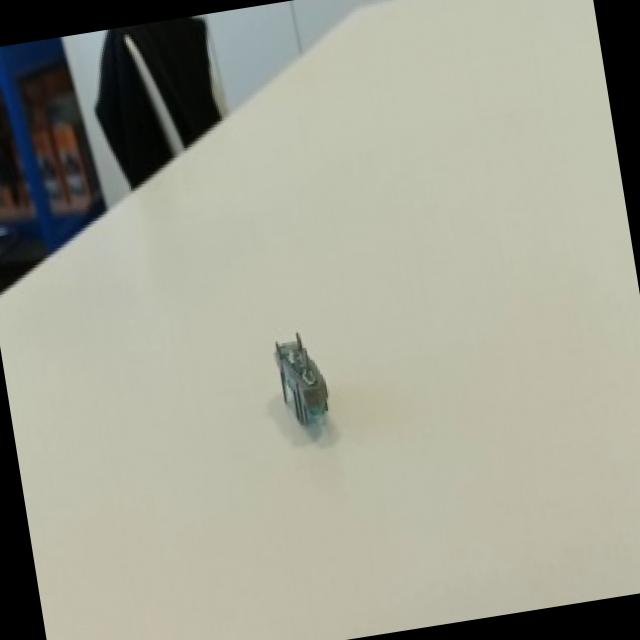5_NanoBug_GrisClaro: (244, 313, 366, 455)
